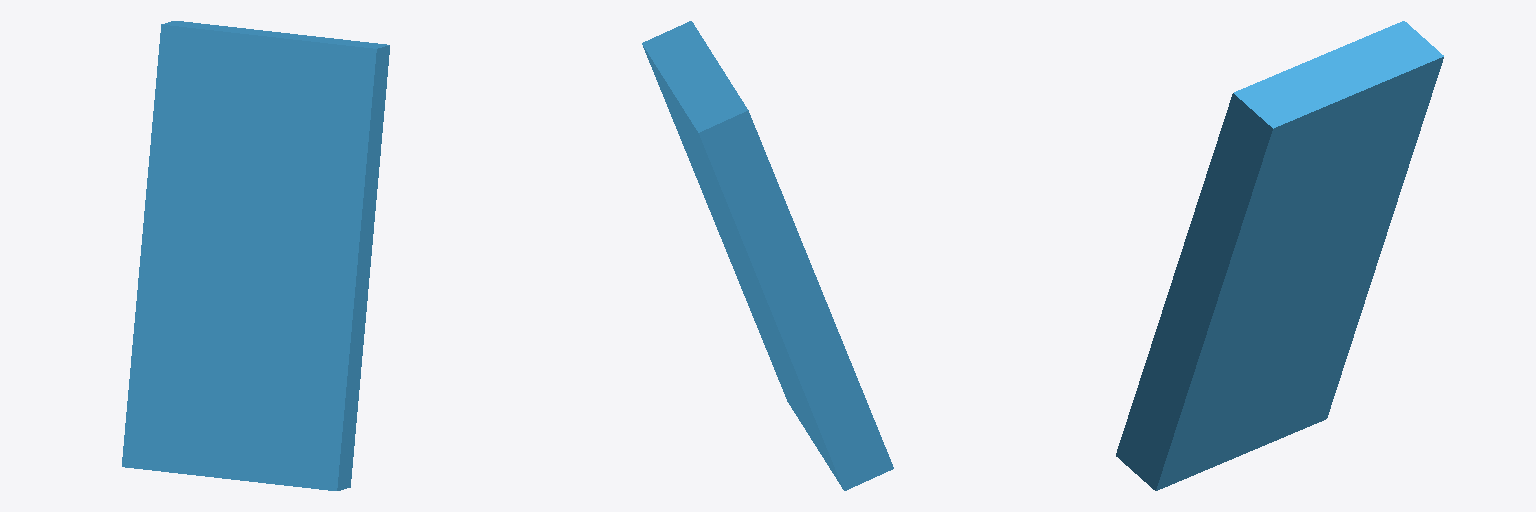
The robot description file, URDF, robot "camera_bedroom":
<?xml version="1.0"?>
<robot xmlns:sensor="http://playerstage.sourceforge.net/gazebo/xmlschema/#sensor"
       xmlns:controller="http://playerstage.sourceforge.net/gazebo/xmlschema/#controller"
       xmlns:interface="http://playerstage.sourceforge.net/gazebo/xmlschema/#interface"
       xmlns:xacro="http://ros.org/wiki/xacro"
       name="camera_bedroom">

<gazebo reference="camera_bedroom"> 
      <sensor:camera name="camera_bedroom">
        <imageSize>640 480</imageSize>
        <imageFormat>R8G8B8</imageFormat>
        <hfov>90</hfov>
        <nearClip>0.01</nearClip>
        <farClip>100</farClip>
        <updateRate>20.0</updateRate>
        <controller:gazebo_ros_camera name="camera_bedroom_controller" plugin="libgazebo_ros_camera.so">
          <alwaysOn>true</alwaysOn>
          <updateRate>20.0</updateRate>
          <imageTopicName>angen_cameras/bedroom/image</imageTopicName>
          <frameName>camera_bedroom</frameName>
          <interface:camera name="camera_bedroom_iface" />
        </controller:gazebo_ros_camera>
      </sensor:camera>
      <turnGravityOff>true</turnGravityOff>
      <material>Gazebo/Blue</material>   
  </gazebo>

<link name="world"/>
  <joint name="camera_bedroom_pose" type="fixed">
    <axis xyz="1 0 0"/>
    <parent link="world"/>
    <origin rpy="0 0.35 0.785" xyz="0.1 0.4 2.3"/>
    <child link="camera_bedroom"/>
    <dynamics damping="100" friction="1000"/>
  </joint>
  
<link name="camera_bedroom">
     <inertial>
      <origin xyz="0 0 0" rpy="0 0 0" /> 
      <mass value="0.3" />
      <inertia  ixx="0.3" ixy="0.0"  ixz="0.0"  iyy="0.001"  iyz="0.0"  izz="0.05" />
    </inertial>
    <visual>
      <origin xyz="0 0 0" rpy="0 0 0" /> 
      <geometry>
        <box size=".025 .1 .2" />
      </geometry>
    </visual>
    <collision name="camera_bedroom">
     <origin xyz="0 0 0" rpy="0 0 0" /> 
      <geometry>
       <box size=".025 .1 .2" />
      </geometry>
    </collision>
  </link>
</robot>

--- Render facts (derived) ---
The picture shows the robot from 3 angles, left to right: view 1: azimuth 30°, elevation 25°; view 2: azimuth 150°, elevation 25°; view 3: azimuth 270°, elevation 25°; orthographic projection.
Robot: camera_bedroom — 2 links, 1 joints (1 fixed); root link world; default pose: every joint at zero.
Visible links, largest first — view 1: camera_bedroom; view 2: camera_bedroom; view 3: camera_bedroom.
Boxes of the visible links, x1=… form: camera_bedroom: x1=122, y1=21, x2=389, y2=490; camera_bedroom: x1=642, y1=21, x2=893, y2=490; camera_bedroom: x1=1116, y1=21, x2=1443, y2=490.
Bounding box of the posed robot: 0.1358 × 0.1358 × 0.1964 m (x, y, z).
Geometry: primitives only (box / cylinder / sphere), no mesh files.